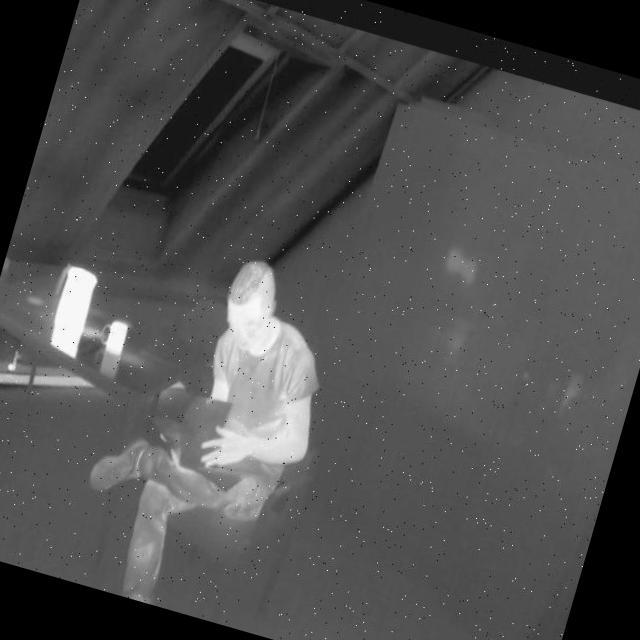person: (54, 226, 357, 634)
